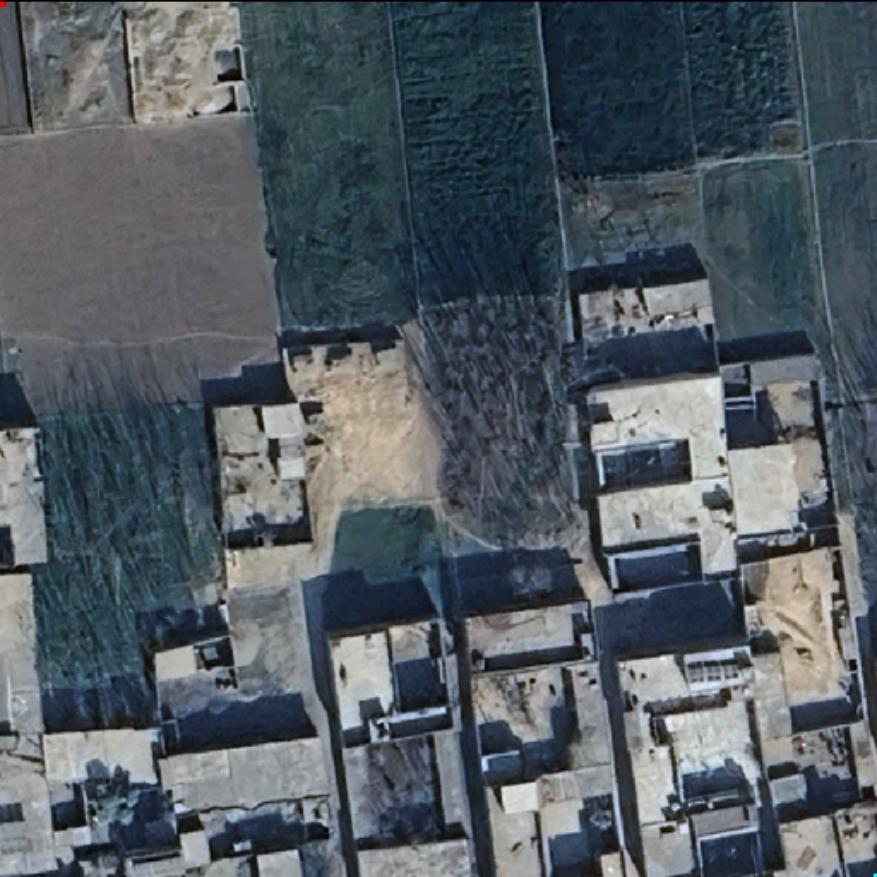Solarpanel: (681, 656, 743, 686)
